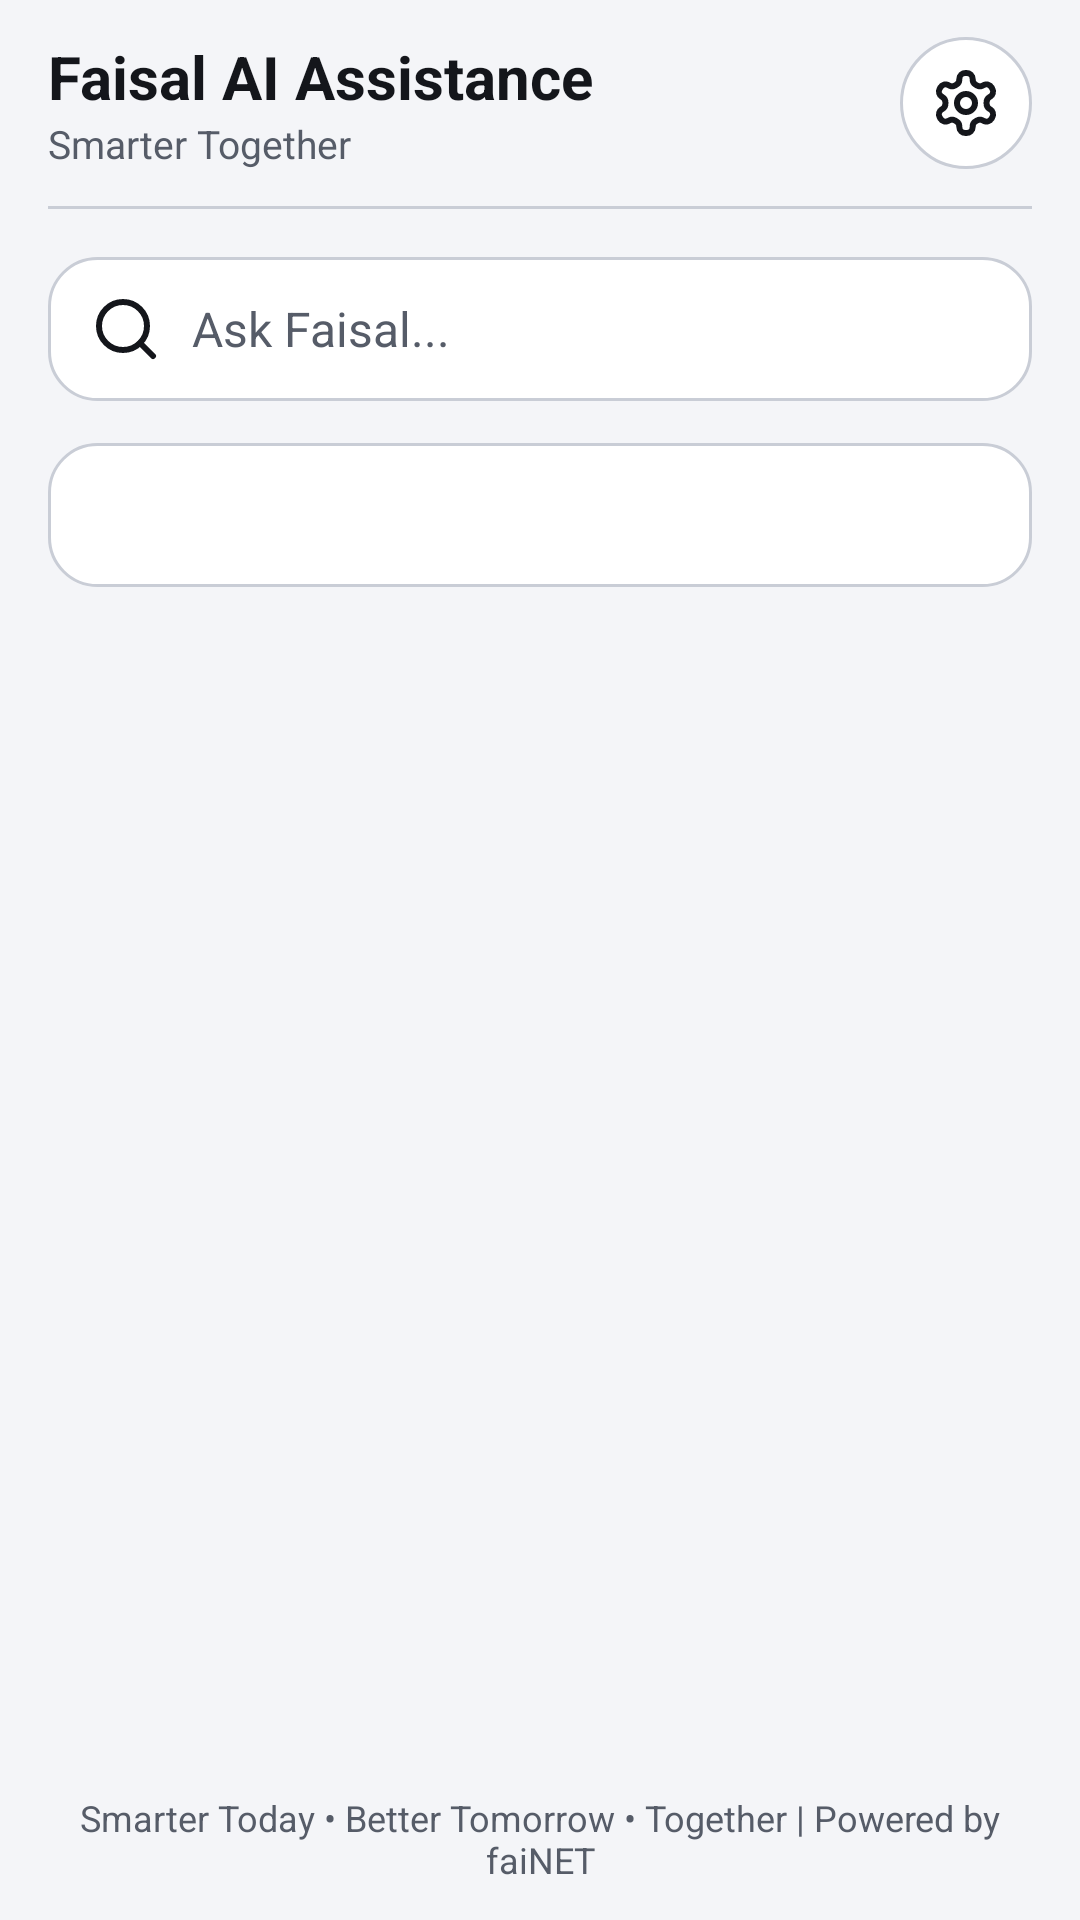

Icon bounding boxes for this 1080 × 1920 phone screenshot, format (x1, y1, x2, y2):
Settings: (900, 37, 1032, 169)
